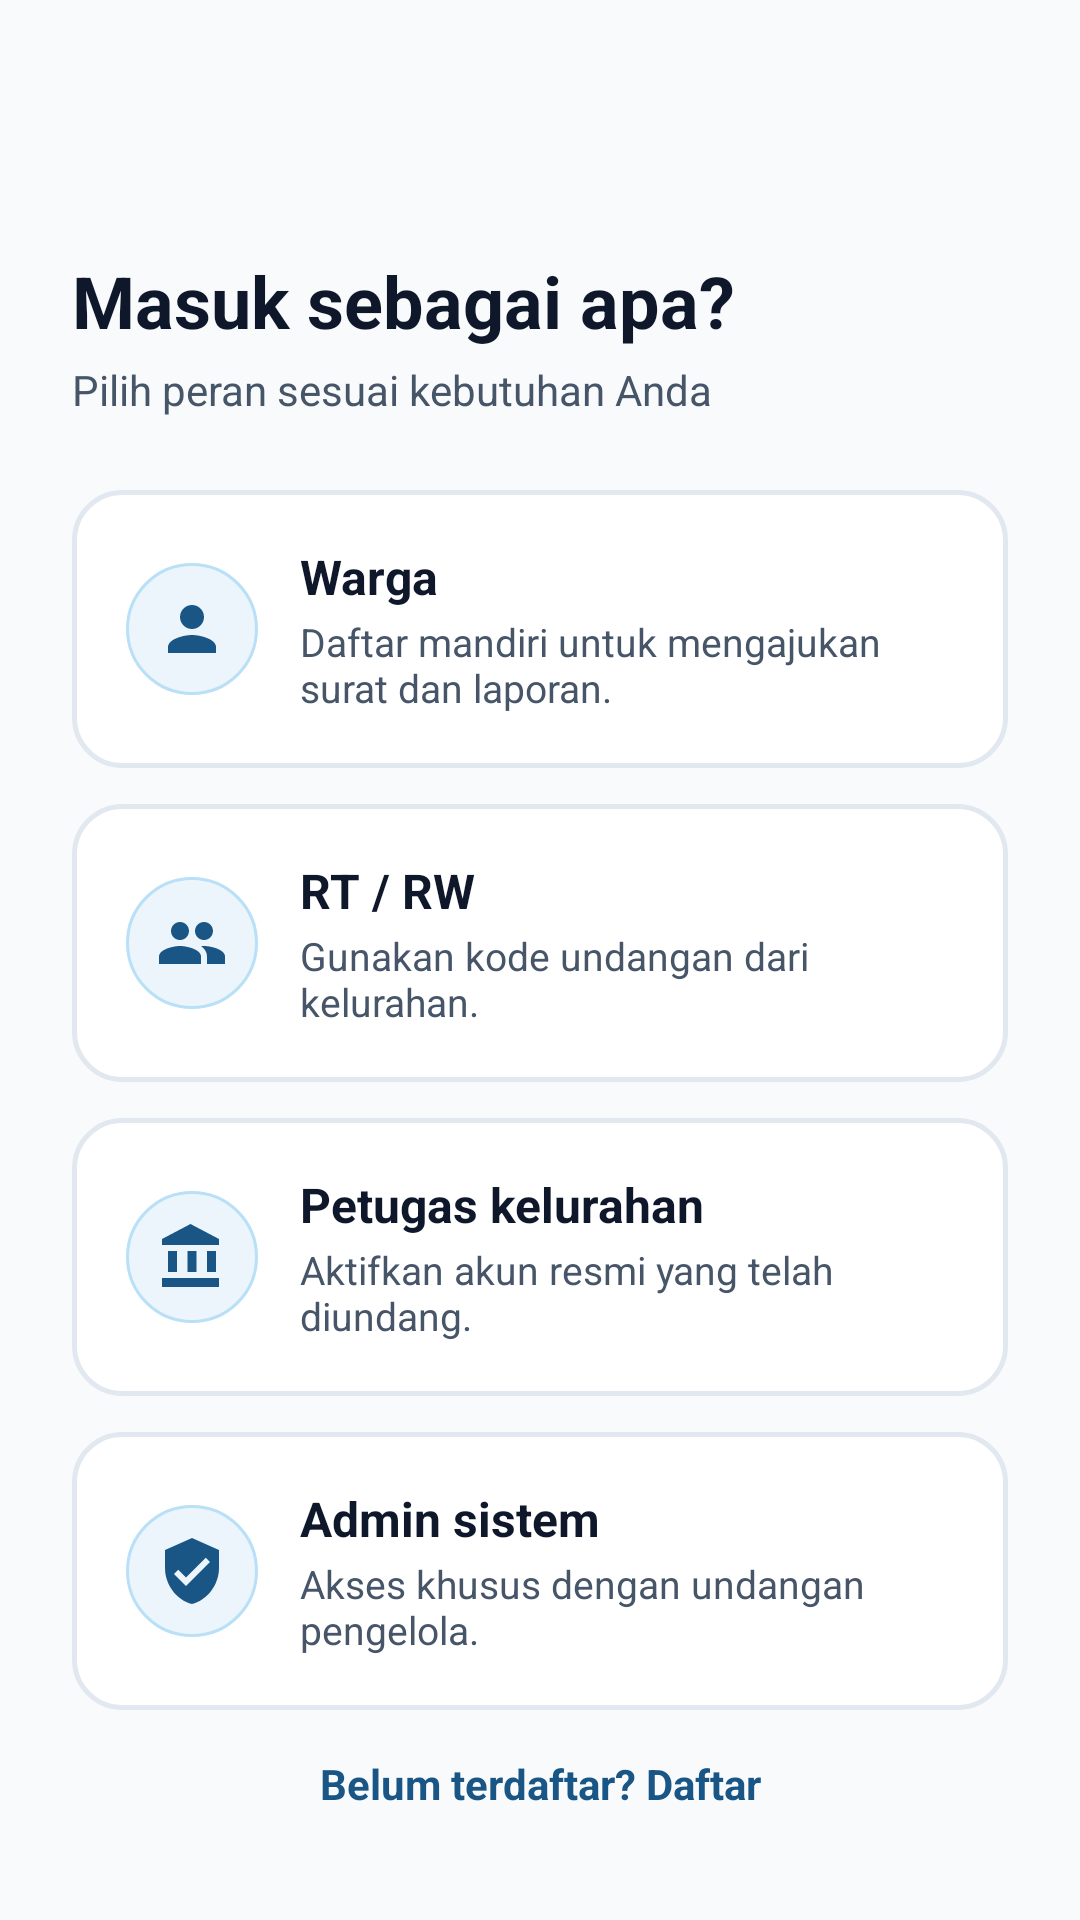

Icon click points for this 1080 × 1920 phone screenshot, format (x,y):
account balance: (192,1257)
person: (192,629)
shield security: (192,1571)
